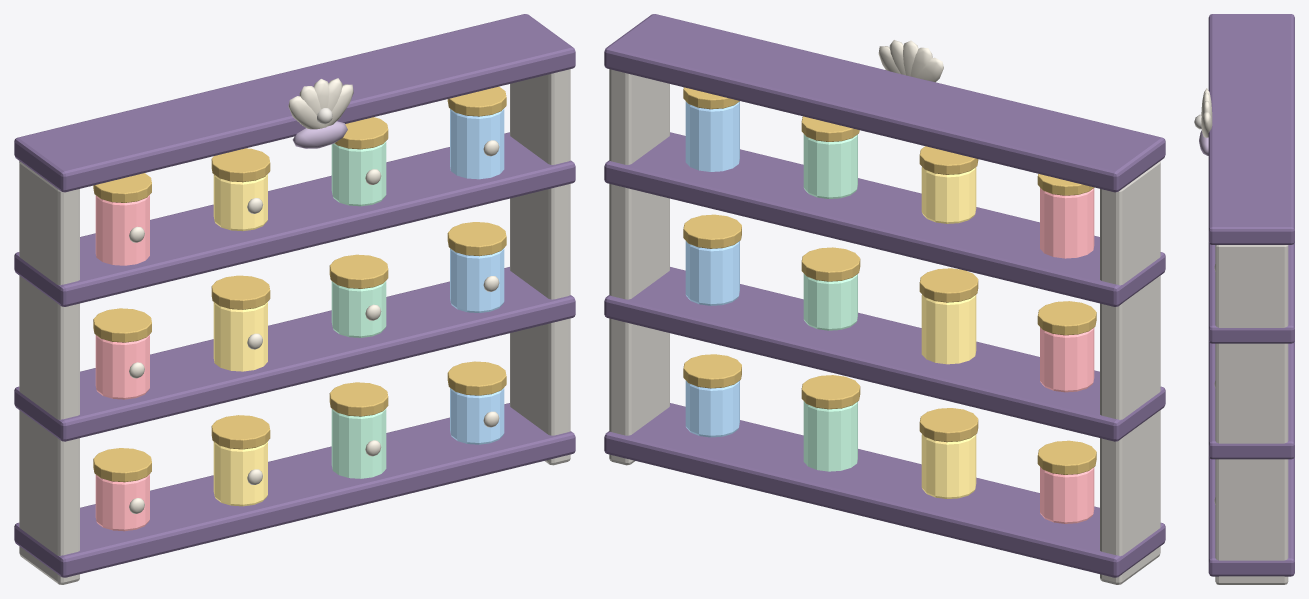
Rendered from pearl_pantry_shelf_affb617.glb.
3 renders of one model, left to right at view 1: azimuth 30°, elevation 25°; view 2: azimuth 150°, elevation 25°; view 3: azimuth 270°, elevation 25°, orthographic. The views are drawn at different scales.
Parts seen in each view (by area): view 1: pearl_pantry_shelf.001; view 2: pearl_pantry_shelf.001; view 3: pearl_pantry_shelf.001.
Part boxes in pixels (x1=…): pearl_pantry_shelf.001: x1=14, y1=14, x2=575, y2=584; pearl_pantry_shelf.001: x1=604, y1=14, x2=1165, y2=584; pearl_pantry_shelf.001: x1=1194, y1=14, x2=1294, y2=584.
Bounding box in the file's own units: 10.8 × 9.02 × 2.13.
